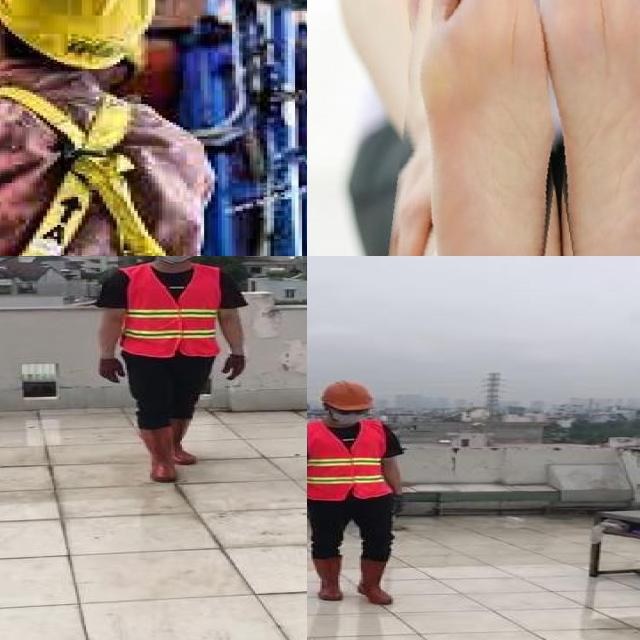Barefoots: (405, 0, 573, 256), (539, 0, 640, 256)
Harness: (0, 84, 171, 256)
boots: (138, 428, 178, 483), (356, 556, 395, 605), (310, 555, 348, 602), (168, 416, 200, 465)
face_mask: (329, 406, 368, 426)
glasses: (332, 408, 372, 417)
hand_glove: (98, 359, 130, 383), (223, 355, 248, 383), (386, 496, 409, 518)
head_helmet: (312, 378, 378, 414)
person: (88, 256, 257, 486), (307, 375, 411, 617)
vest: (118, 265, 219, 359), (307, 422, 395, 500)
